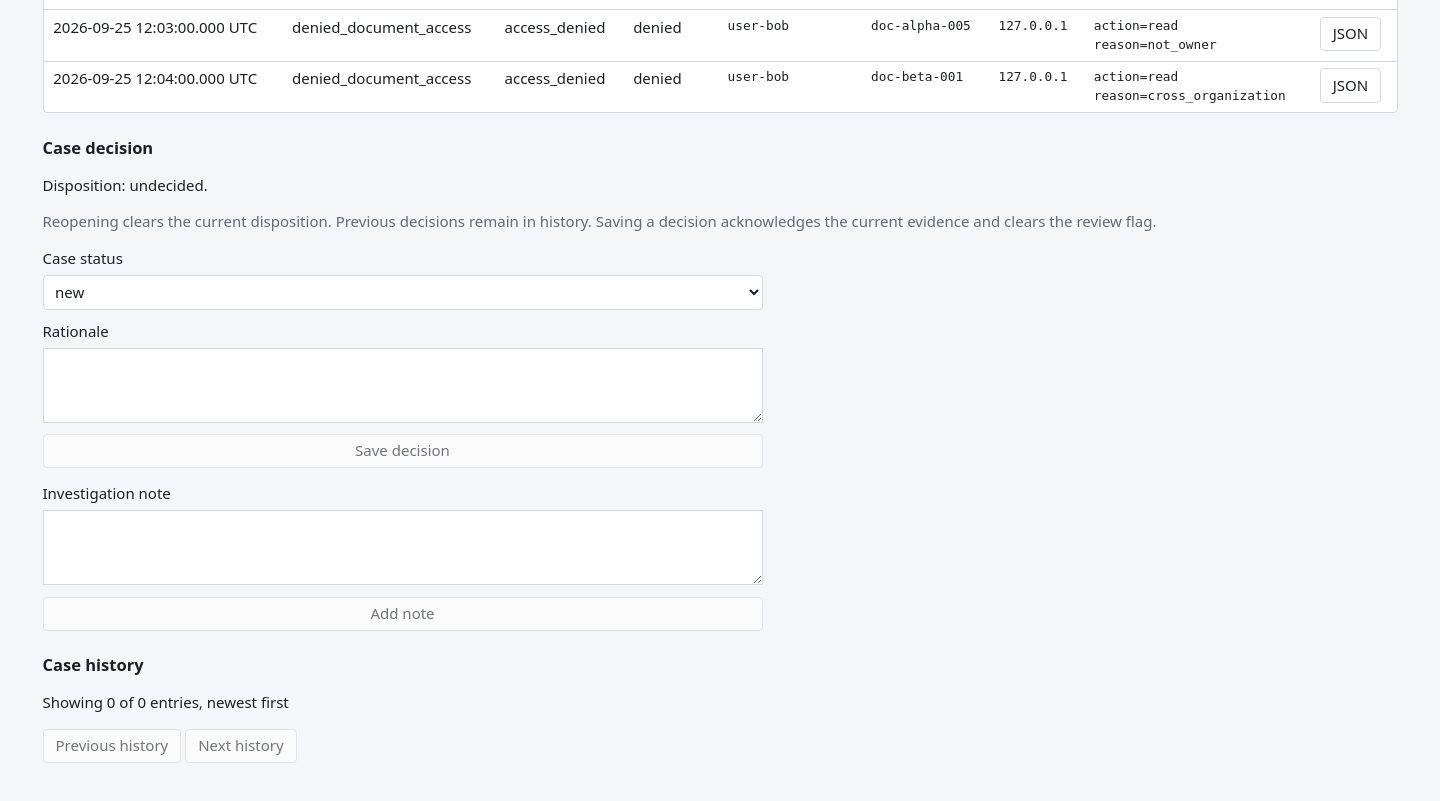
Test: case changes and bounded evidence › expires the session when a case write returns 401
(page scrolled)
In the text box labelled "Investigation note": (402, 548) top-left (42, 510), bottom-right (762, 585), type "Review evidence."
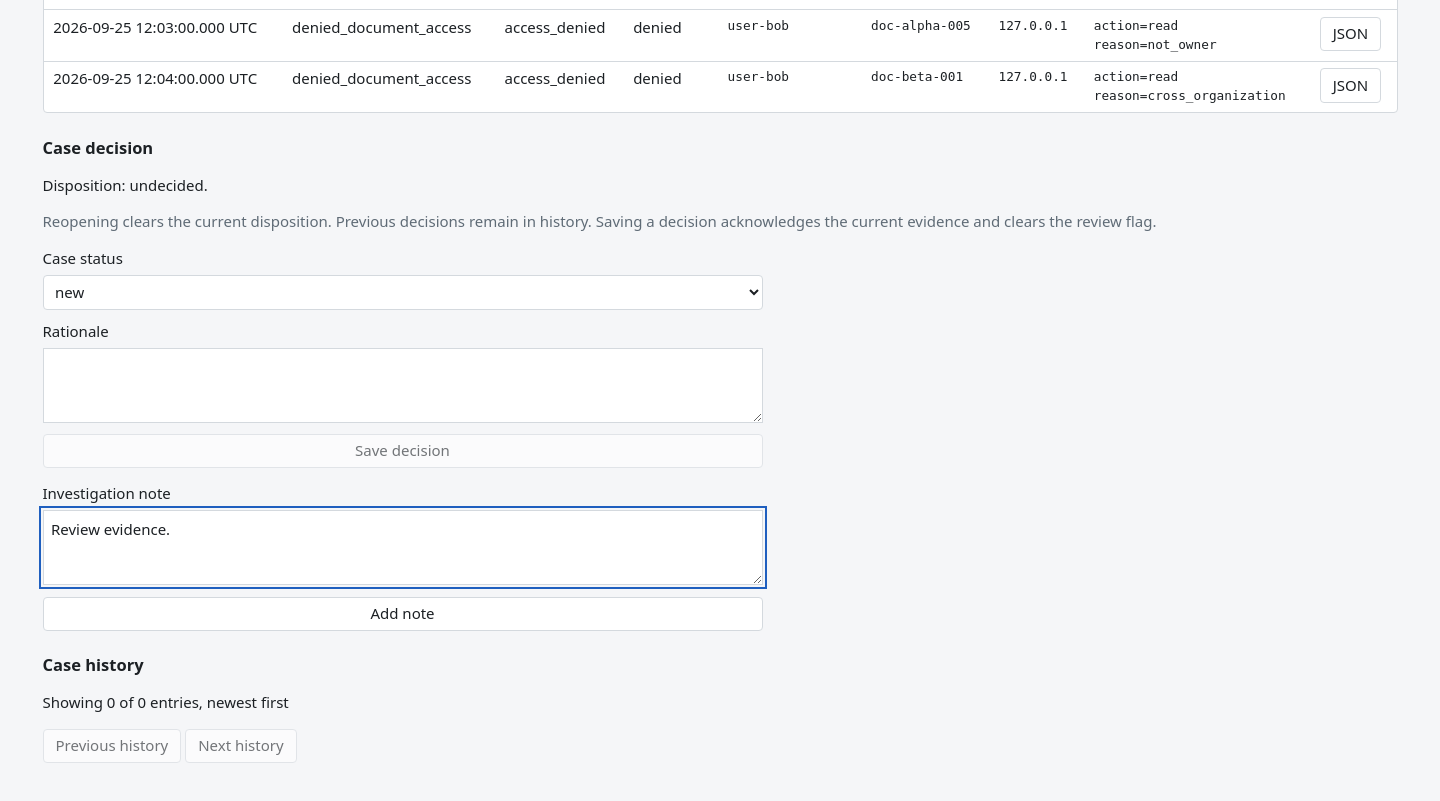
Click the button "Add note": (402, 614) top-left (42, 597), bottom-right (762, 631)
(page scrolled)
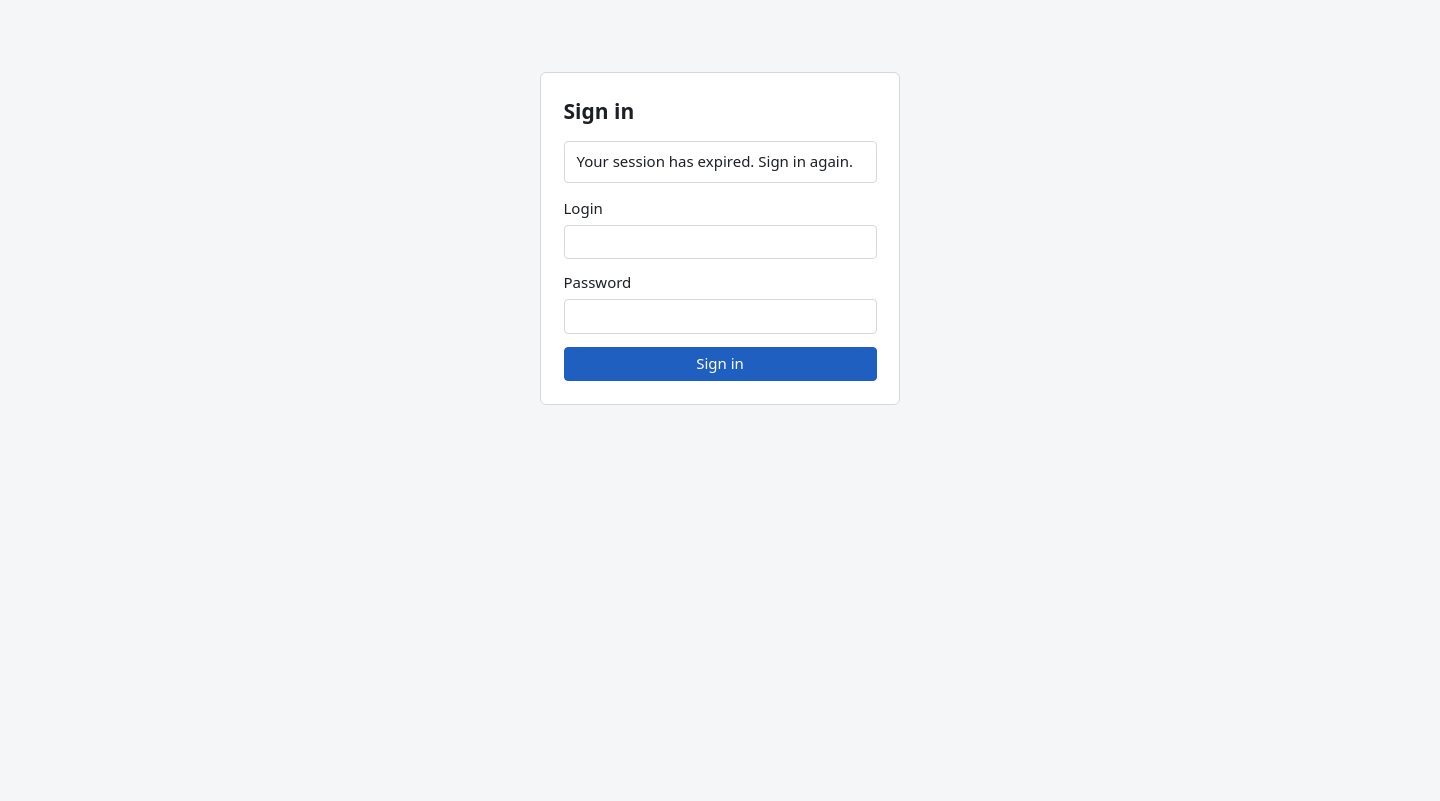
expect the text "Your session has expired. Sign in again." is shown: met, box top-left (564, 141), bottom-right (876, 183)
